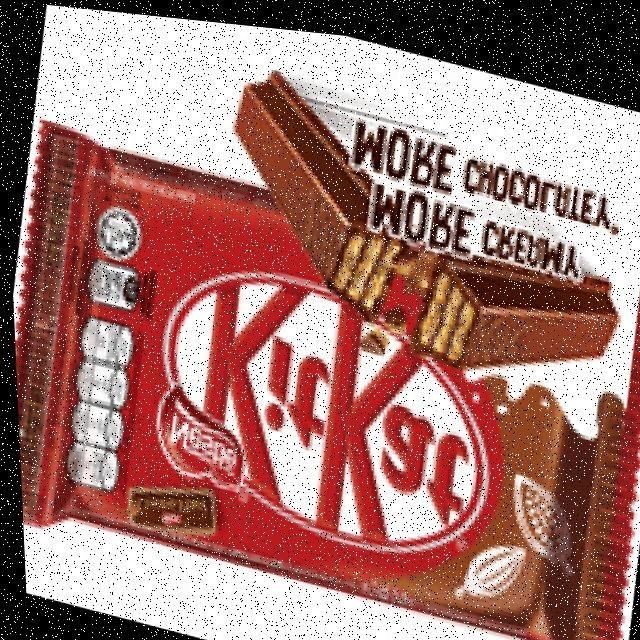kitkat_chocolate: (51, 115, 640, 640)
